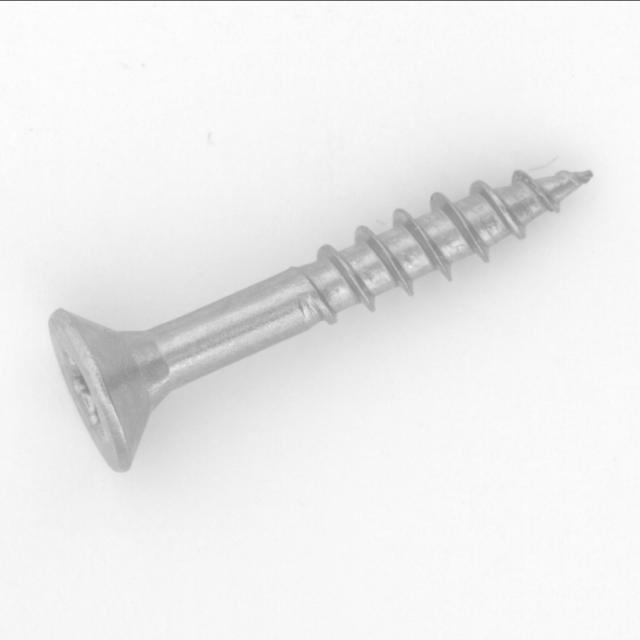Dry Waste: (28, 117, 600, 501)
